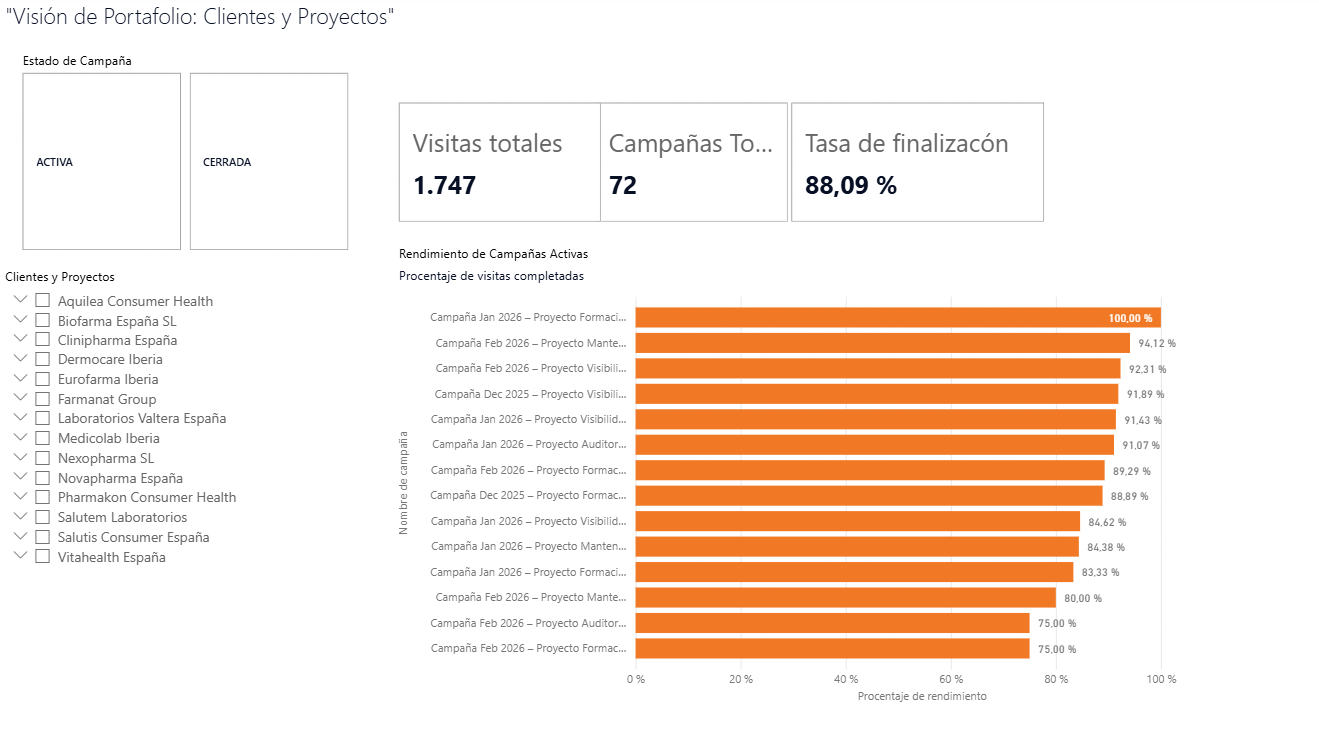

This screenshot's page, from the dashboard's own definition file:
{"tool":"powerbi","page":{"name":"1. Global","canvas":[1280,720],"ordinal":0},"visuals":[{"type":"cardVisual","fields":{"Data":["mart_campaign_performance.Campaign Completion Rate"]},"box":[758.6,98.6,254.3,125.7],"z":0},{"type":"advancedSlicerVisual","fields":{"Values":["mart_campaign_performance.campaign_status-date"]},"box":[17.1,54.3,324.3,197.1],"z":1000},{"type":"textbox","box":[0,0,618.6,52.9],"z":3000},{"type":"cardVisual","fields":{"Data":["Count(mart_campaign_performance.campaign_id)"]},"box":[570,98.3,196.7,125.8],"z":4000},{"type":"cardVisual","title":"Visitas Totales","fields":{"Data":["Sum(mart_campaign_performance.total_visits)"]},"box":[380,98.6,205.7,125.7],"z":5000},{"type":"clusteredBarChart","title":"Rendimiento de Campañas Activas","fields":{"Category":["mart_campaign_performance.campaign_name"],"Y":["mart_campaign_performance.Campaign Completion Rate"]},"box":[380,241.3,807.1,446.4],"z":6000},{"type":"slicer","title":"Clientes y Proyectos","fields":{"Values":["mart_campaign_performance.client_name","mart_campaign_performance.project_name","mart_campaign_performance.campaign_name"]},"box":[0,262.9,355.7,457.1],"z":6001}]}

Visuals, with their boxes in screenshot pixels (x1, y1, x2, y2), scaled from the page's 1280x720 canvas onto the 1319x737 screenshot:
cardVisual - mart_campaign_performance.Campaign Completion Rate: <region>782, 101, 1044, 230</region>
advancedSlicerVisual - mart_campaign_performance.campaign_status-date: <region>18, 56, 352, 257</region>
textbox: <region>0, 0, 637, 54</region>
cardVisual - Count(mart_campaign_performance.campaign_id): <region>587, 101, 790, 229</region>
"Visitas Totales" cardVisual: <region>392, 101, 604, 230</region>
"Rendimiento de Campañas Activas" clusteredBarChart: <region>392, 247, 1223, 704</region>
"Clientes y Proyectos" slicer: <region>0, 269, 367, 736</region>
